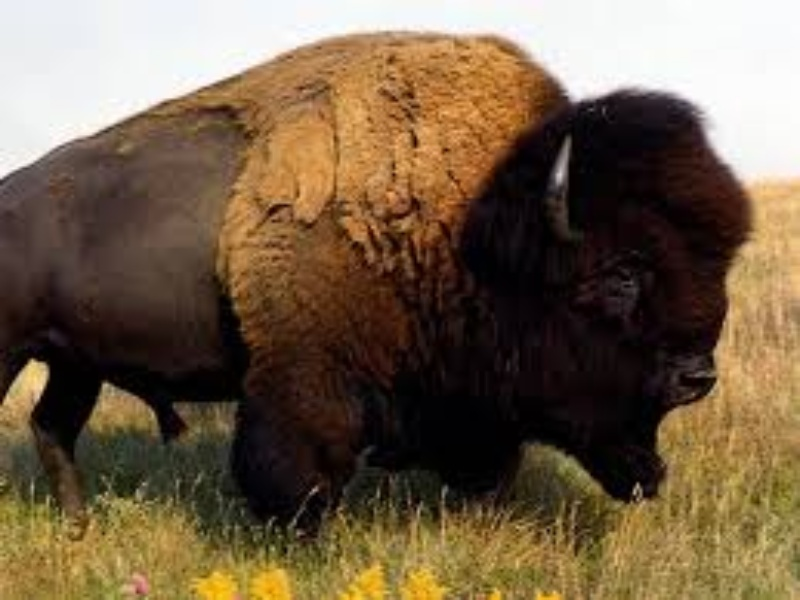buffalo: (36, 32, 757, 535)
